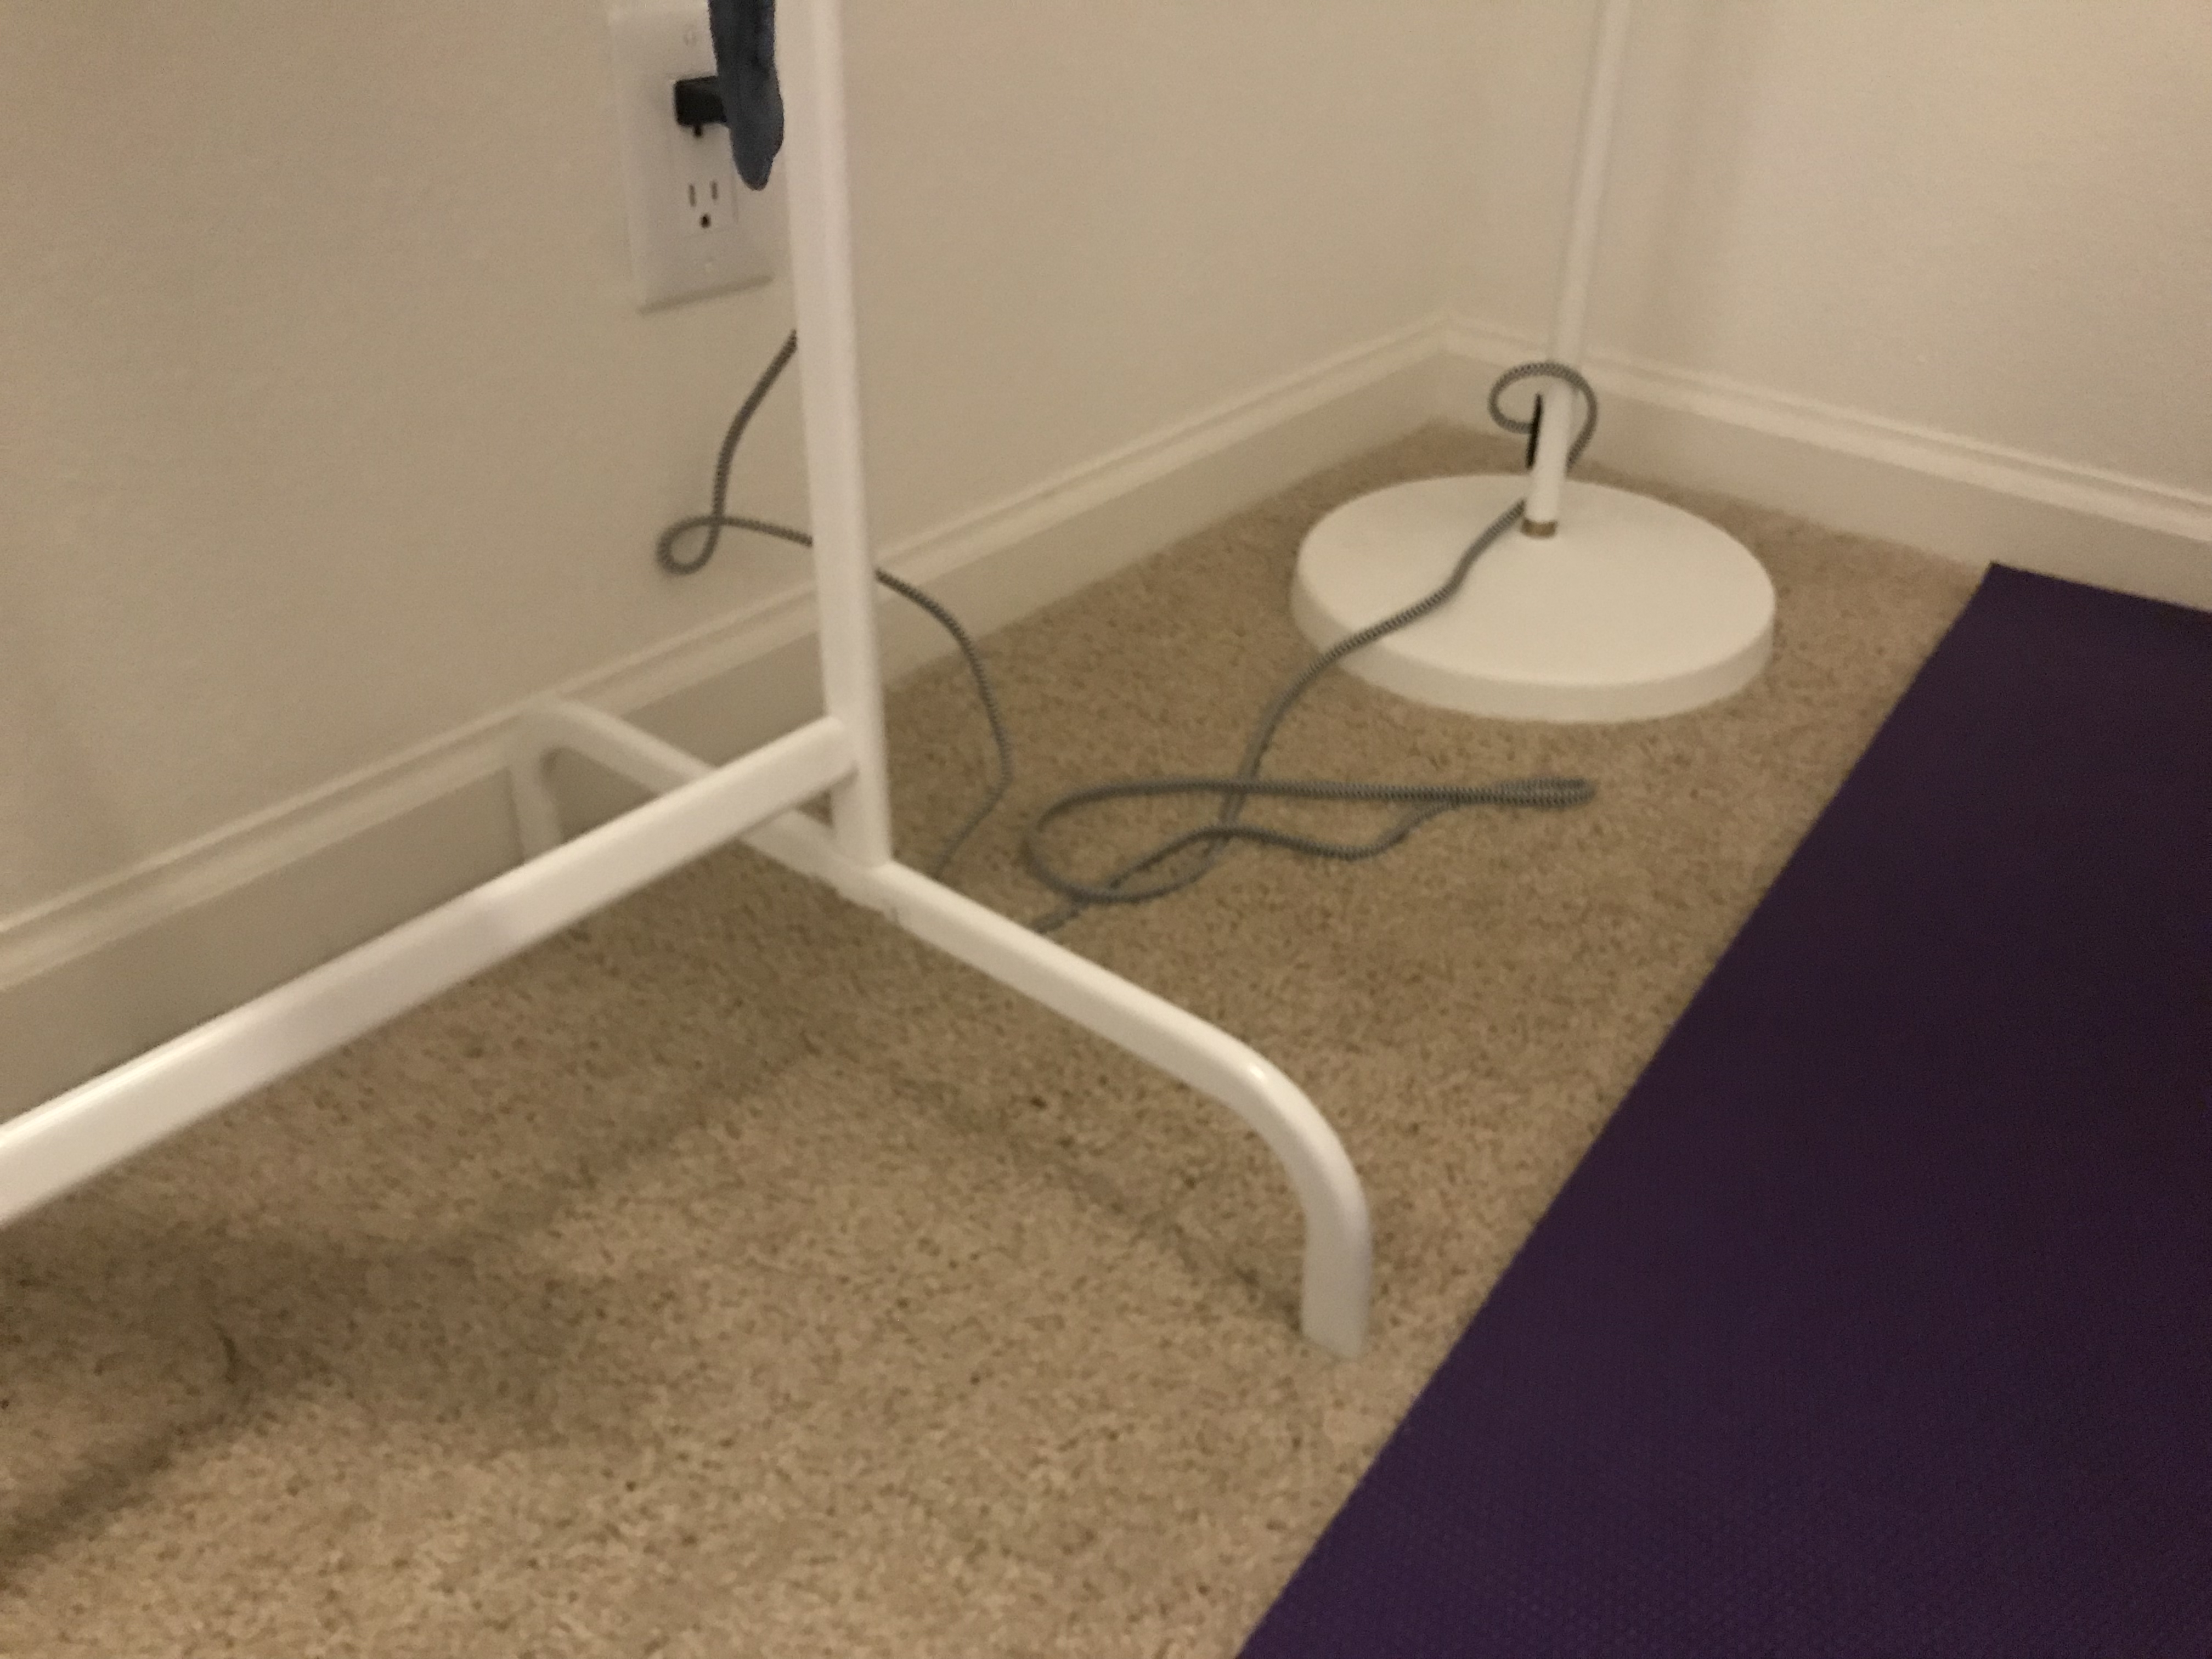Edge: (1214, 533, 2036, 1656)
Obstacle: (9, 5, 2209, 995), (12, 678, 1385, 1391), (1191, 404, 1825, 749), (723, 5, 911, 744)
